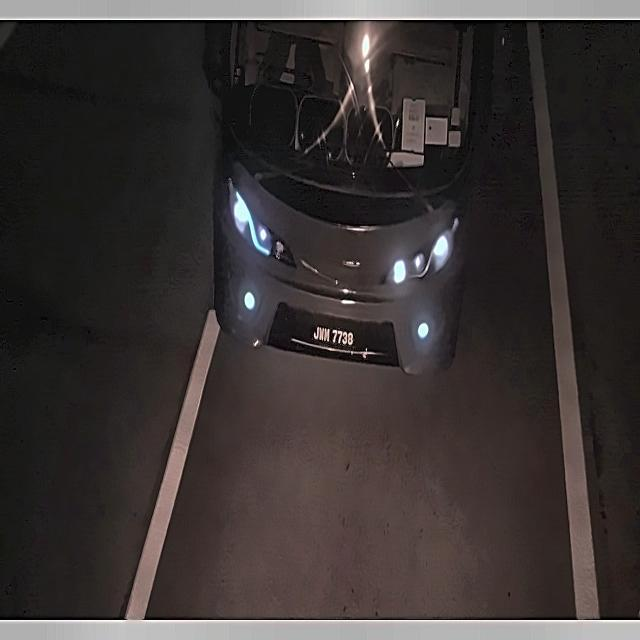car: (308, 321, 357, 356)
